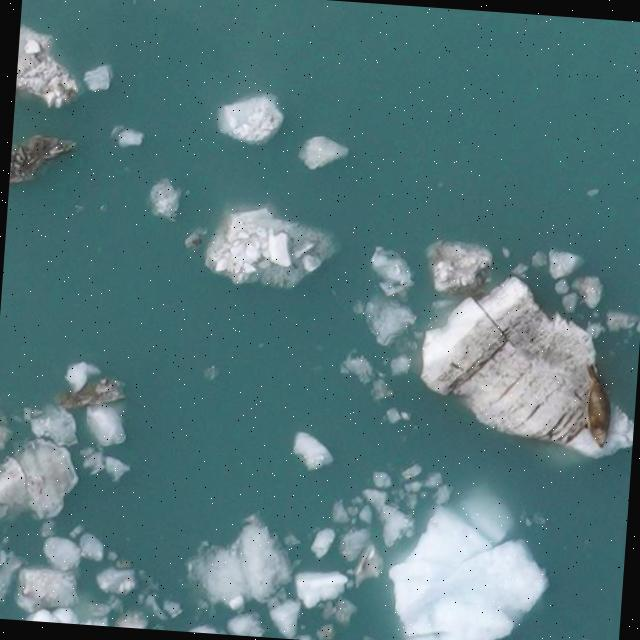seal: (584, 363, 611, 447)
